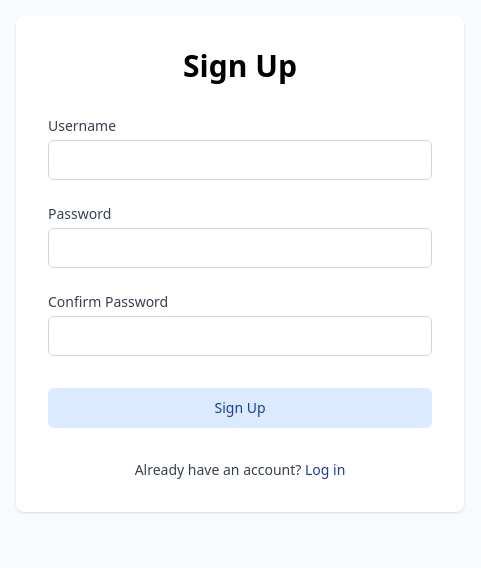
Test case: Signup Component › displays error message when signup fails
Type "existinguser" into the field labelled "Username" at (240, 160), box 48,140 -> 432,180
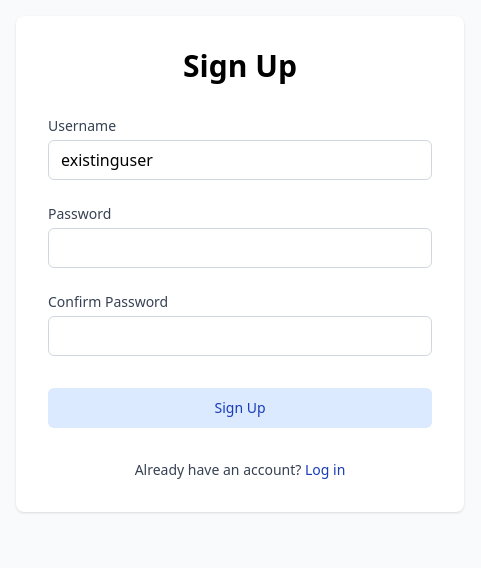
Type "password123" into the password field labelled "Password" at (240, 248), box 48,228 -> 432,268
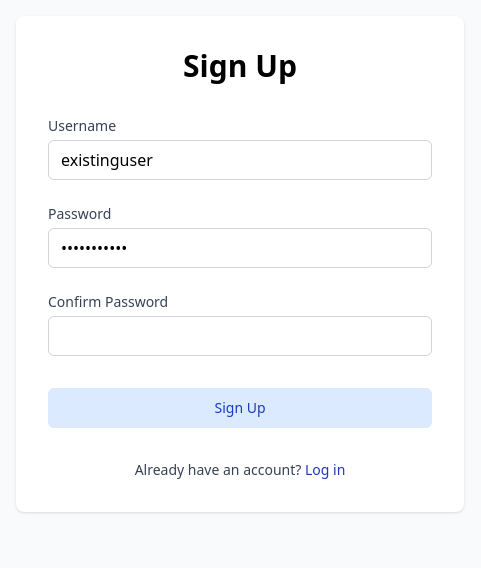
Type "password123" into the password field labelled "Confirm Password" at (240, 336), box 48,316 -> 432,356
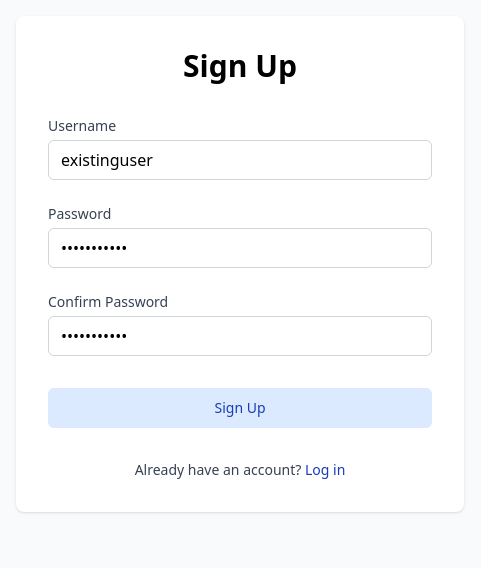
Click the button "Sign Up" at (240, 408), box 48,388 -> 432,428
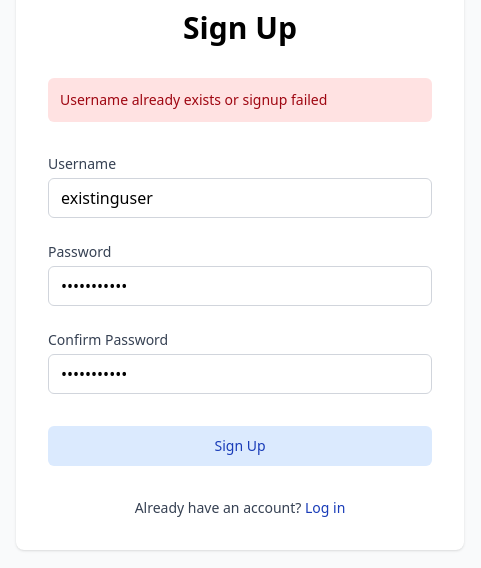
Expected: the text "Username already exists or signup failed" is shown, 48,78 -> 432,122
